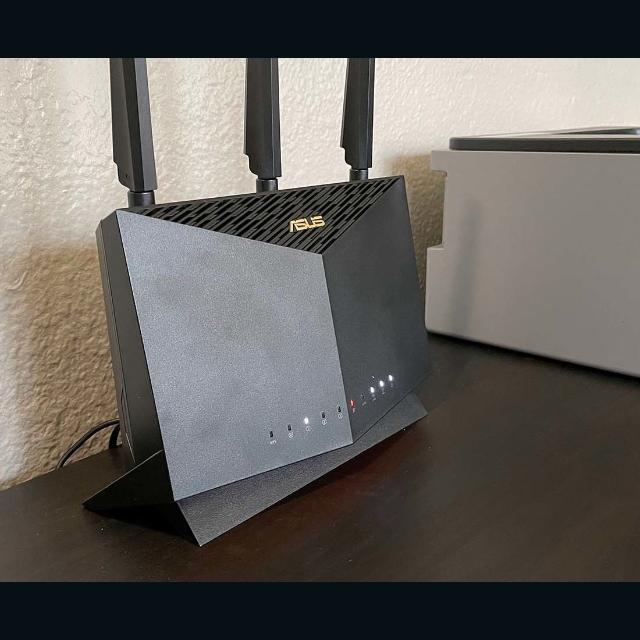Router: (87, 30, 432, 548)
